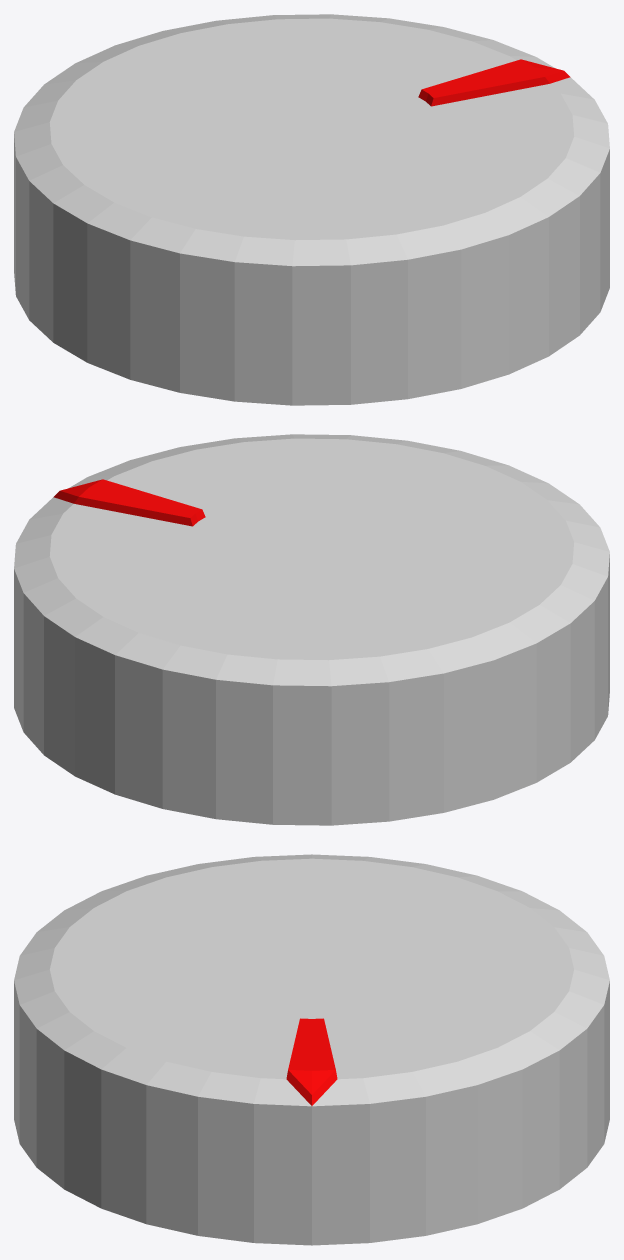
The model's file is shell.dae.
3 renders of one model, top to bottom at view 1: azimuth 30°, elevation 25°; view 2: azimuth 150°, elevation 25°; view 3: azimuth 270°, elevation 25°, orthographic.
Parts seen in each view (by area): view 1: Cylinder; view 2: Cylinder; view 3: Cylinder.
Part boxes in pixels (x1,y1,x2,y2): Cylinder: (14, 14, 609, 405); Cylinder: (14, 434, 609, 825); Cylinder: (14, 854, 609, 1245).
Bounding box in the file's own units: 0.3333 × 0.3333 × 0.1012.
